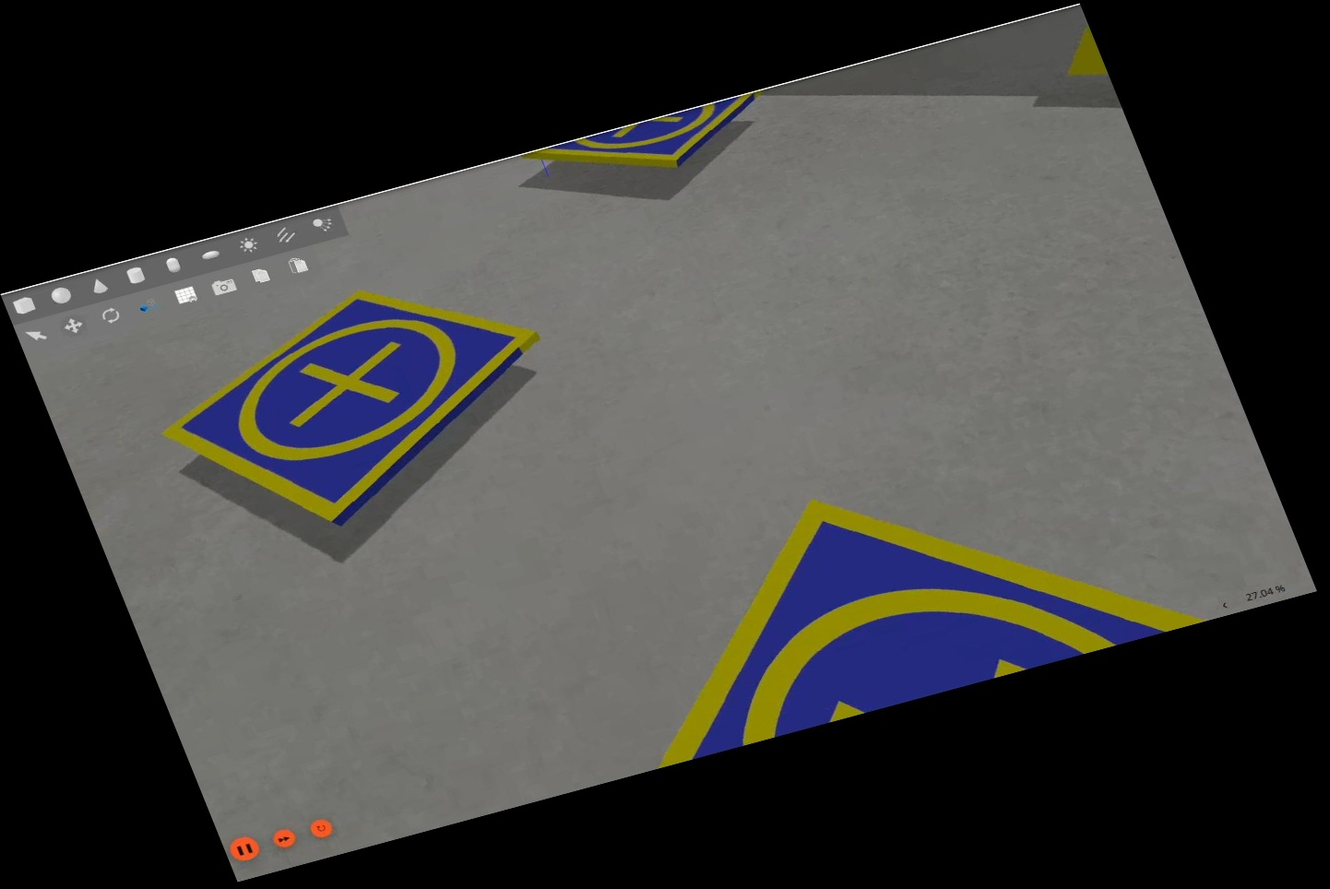small_base: (579, 411, 1209, 766), (126, 249, 592, 562), (524, 90, 774, 203)
